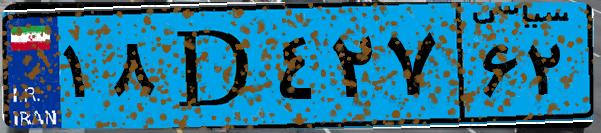1: (57, 26, 110, 100)
2: (330, 28, 385, 110), (525, 38, 570, 115)
4: (270, 28, 330, 110)
6: (475, 38, 525, 113)
7: (385, 28, 445, 110)
8: (110, 28, 158, 98)
D: (158, 12, 270, 120)
